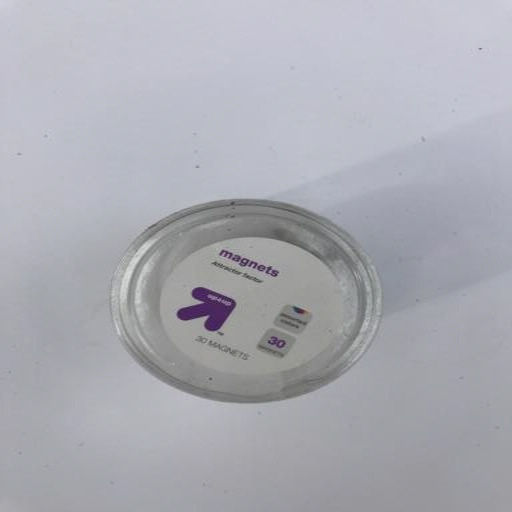Plastic_5: (106, 197, 385, 405)
